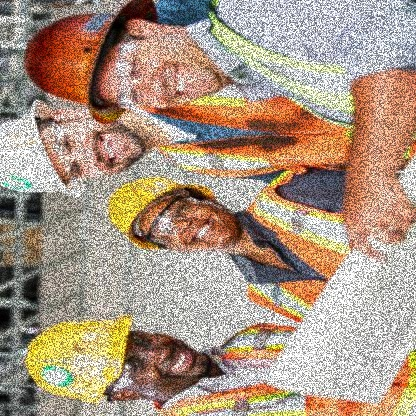vest: (191, 324, 413, 416), (237, 184, 356, 324), (170, 99, 346, 186)
yellow: (23, 304, 136, 412), (103, 170, 196, 256)
